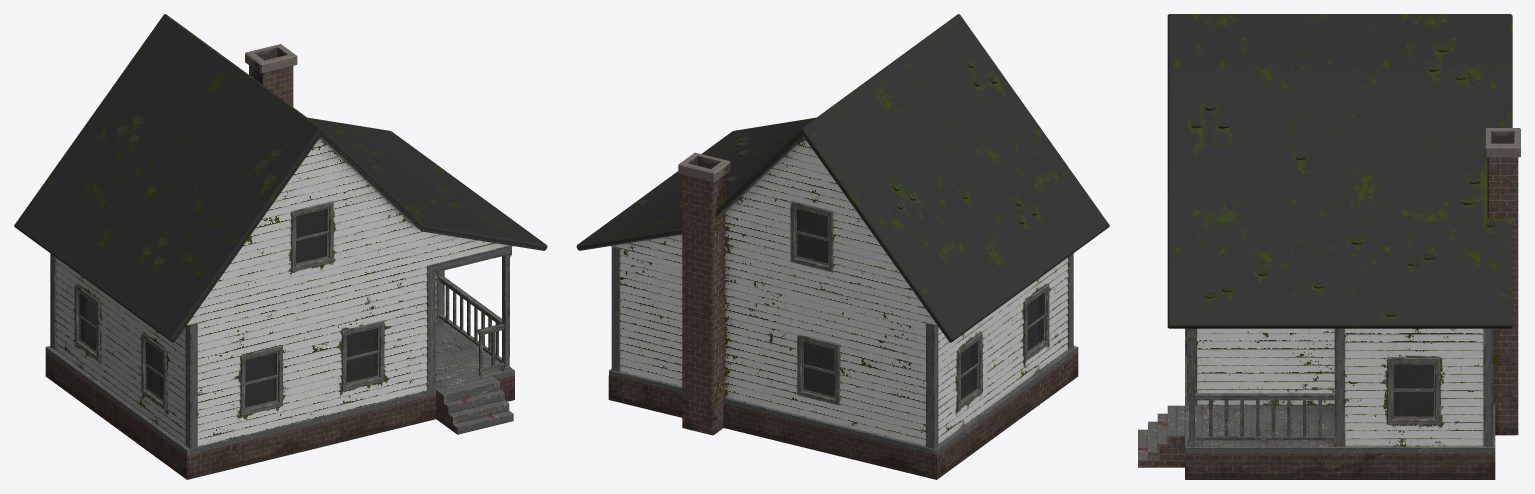
Rendered from house.glb.
The picture shows the model from 3 angles, left to right: view 1: azimuth 30°, elevation 25°; view 2: azimuth 150°, elevation 25°; view 3: azimuth 270°, elevation 25°; orthographic projection. The views are drawn at different scales.
Visible parts, largest first — view 1: Up_Up_0, Wall1_Walls_0, Base_Base_0, Wall3_Walls_0, Down1_Base_0, Cube_bridge_0, Tube_Up_0, Border2_Details_0, Angle3_Details_0, Angle2_Details_0, WindowOut_Details_0, WindowOut.001_Details_0 (+13 smaller); view 2: Up_Up_0, Wall4_Walls_0, Tube_Up_0, Base_Base_0, Wall3_Walls_0, Down1_Base_0, Angle5_Details_0, Angle4_Details_0, WindowOut.006_Details_0, WindowOut.005_Details_0, WindowOut.003_Details_0, WindowOut.004_Details_0 (+5 smaller); view 3: Up_Up_0, Wall2_Walls_0, Wall6_Walls_0, Base_Base_0, Down1_Base_0, Tube_Up_0, Border2_Details_0, Cube_bridge_0, WindowOut.007_Details_0, Angle4_Details_0, Angle1_Details_0, WindowOutDown.007_Opacity_0 (+2 smaller).
Part boxes in pixels (<box>): Up_Up_0: <box>14,14,547,342</box>; Wall1_Walls_0: <box>186,138,513,446</box>; Base_Base_0: <box>45,352,514,479</box>; Wall3_Walls_0: <box>55,257,185,444</box>; Down1_Base_0: <box>45,321,514,455</box>; Cube_bridge_0: <box>436,376,513,434</box>; Tube_Up_0: <box>245,44,297,106</box>; Border2_Details_0: <box>438,276,501,362</box>; Angle3_Details_0: <box>185,323,197,448</box>; Angle2_Details_0: <box>427,264,435,390</box>; WindowOut_Details_0: <box>341,320,384,391</box>; WindowOut.001_Details_0: <box>240,345,282,415</box>; Up_Up_0: <box>576,14,1109,342</box>; Wall4_Walls_0: <box>611,138,937,446</box>; Tube_Up_0: <box>678,152,730,435</box>; Base_Base_0: <box>608,352,1078,479</box>; Wall3_Walls_0: <box>938,257,1068,444</box>; Down1_Base_0: <box>609,346,1078,455</box>; Angle5_Details_0: <box>926,323,938,448</box>; Angle4_Details_0: <box>611,246,620,371</box>; WindowOut.006_Details_0: <box>790,201,833,272</box>; WindowOut.005_Details_0: <box>797,334,840,405</box>; WindowOut.003_Details_0: <box>1023,283,1049,361</box>; WindowOut.004_Details_0: <box>957,332,982,410</box>; Up_Up_0: <box>1167,14,1512,328</box>; Wall2_Walls_0: <box>1344,328,1483,446</box>; Wall6_Walls_0: <box>1196,328,1334,405</box>; Base_Base_0: <box>1185,453,1495,479</box>; Down1_Base_0: <box>1185,328,1495,452</box>; Tube_Up_0: <box>1484,128,1520,435</box>; Border2_Details_0: <box>1195,393,1334,440</box>; Cube_bridge_0: <box>1138,405,1184,467</box>; WindowOut.007_Details_0: <box>1387,357,1440,424</box>; Angle4_Details_0: <box>1483,328,1493,446</box>; Angle1_Details_0: <box>1335,328,1344,446</box>; WindowOutDown.007_Opacity_0: <box>1394,392,1433,416</box>.
Size of the model in its own units: 9.69 by 8 by 7.76.
6 materials, 5 textured.
